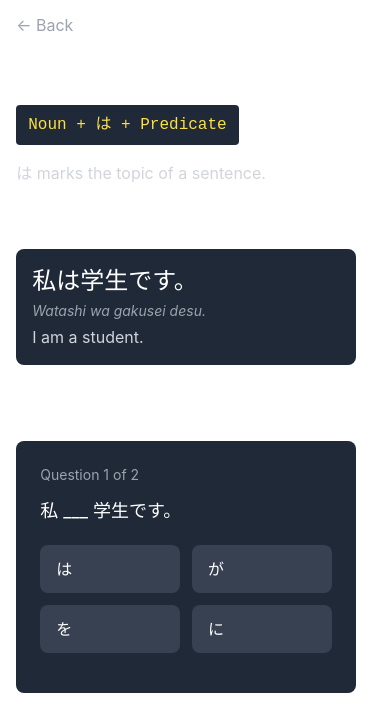
Scenario: GrammarDetailPage › advances to next exercise after clicking Next
The image size is (373, 717).
Expected: the text "Question 1 of 2" is shown, [40,466,139,483]
Click the button "は". click: click(110, 569)
box: [40,545,180,593]
(page scrolled)
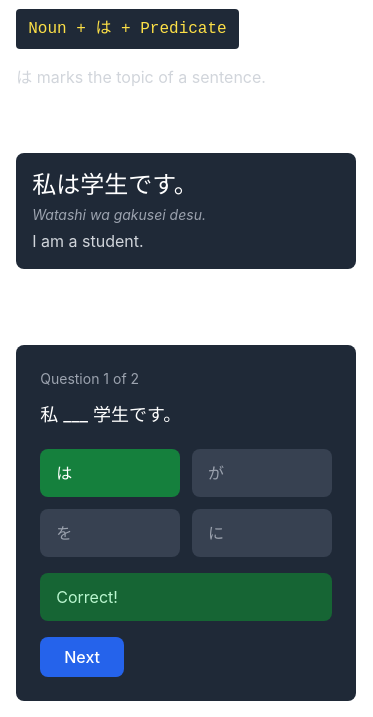
Result: the text "Correct!" is shown at [40,573,332,621]
Click the button "Next". click: click(82, 657)
box: [40,637,124,677]
(page scrolled)
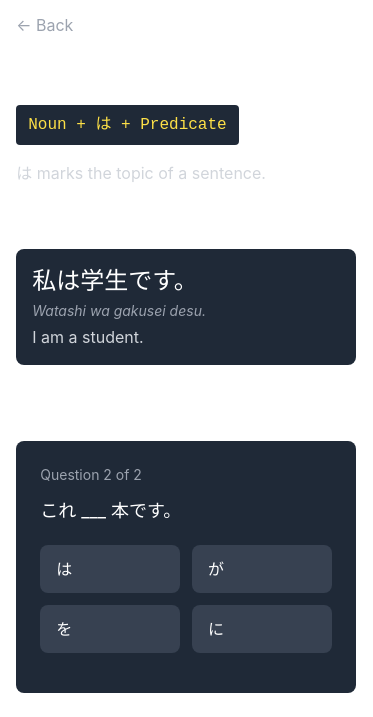
Result: the text "Question 2 of 2" is shown at [40,466,142,483]
